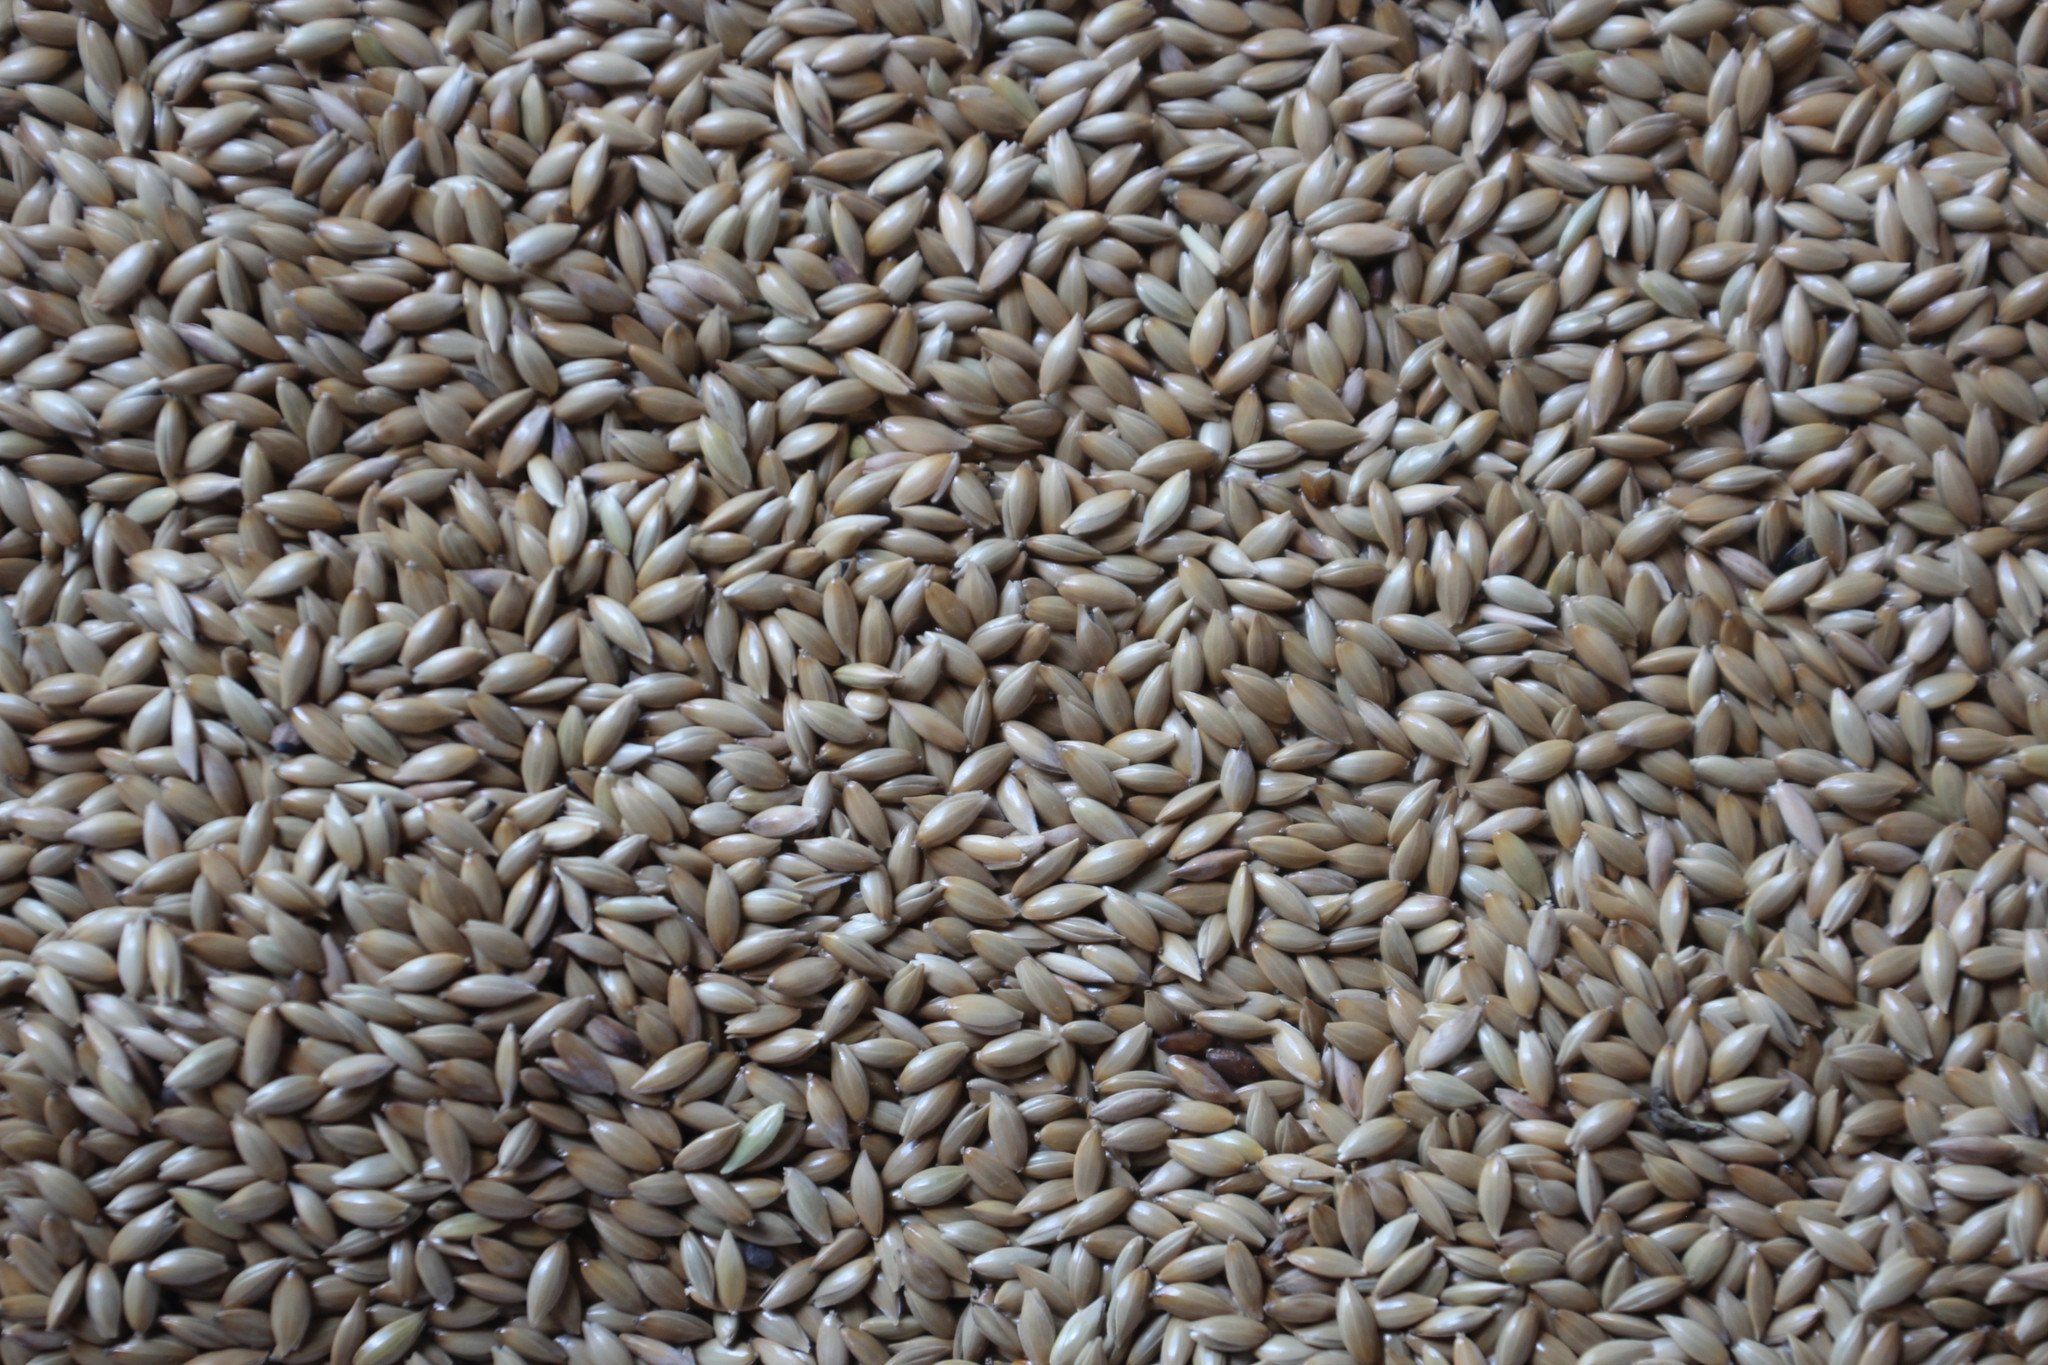seed: (2, 2, 2048, 1365)
